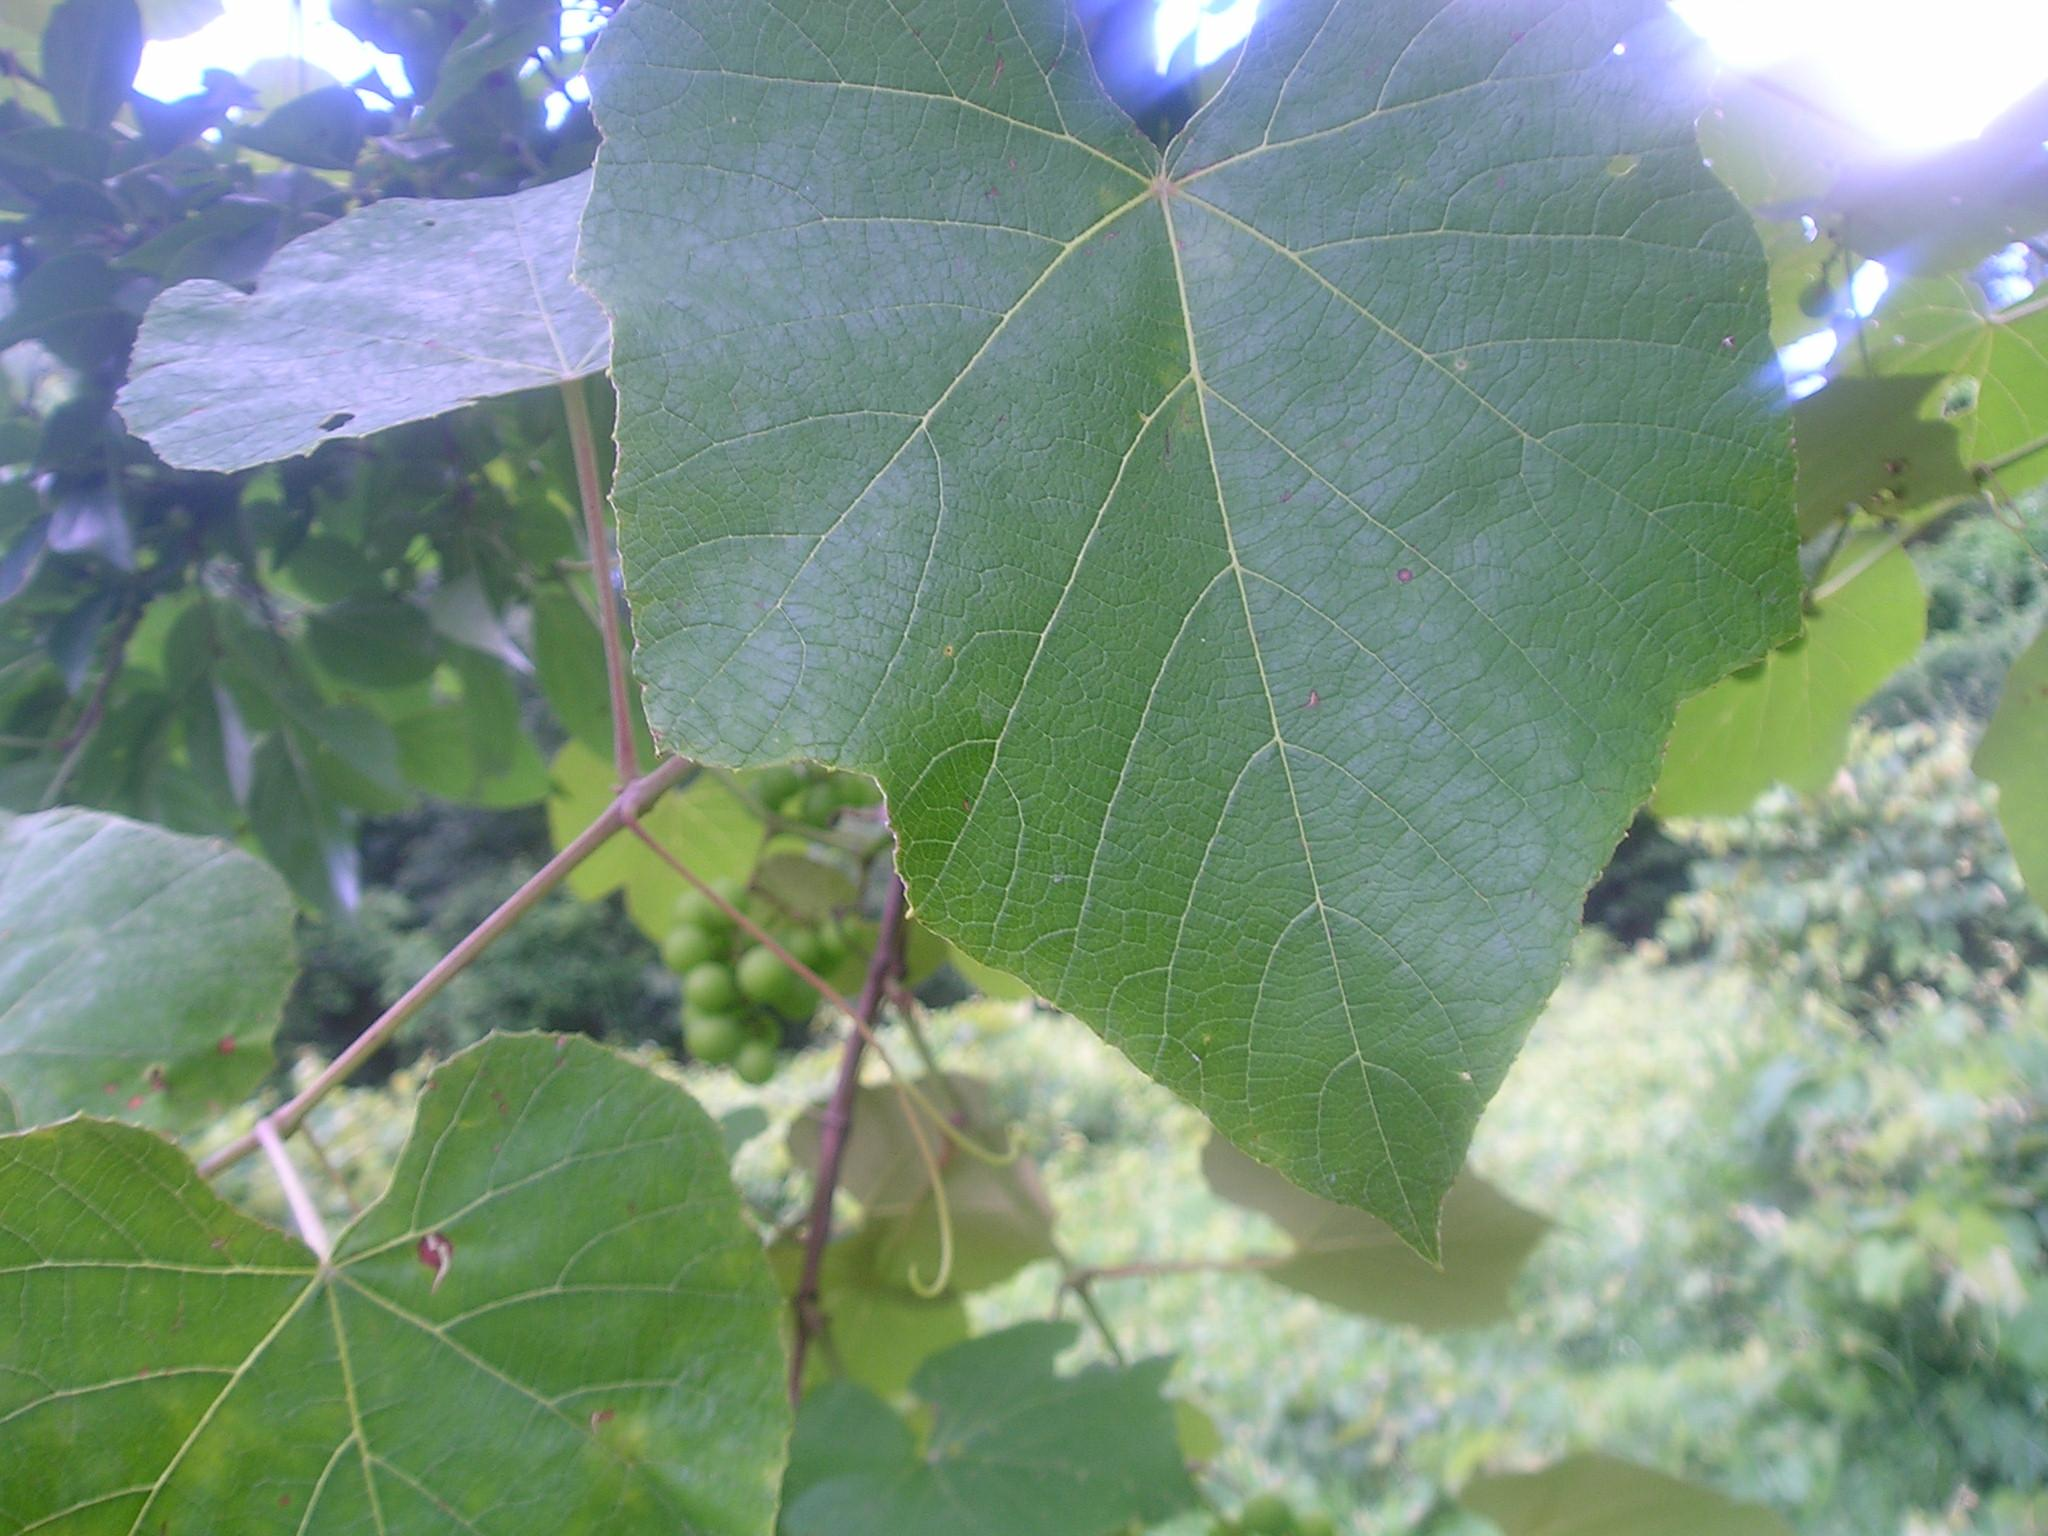grape leaf black rot: (589, 2, 1864, 1239)
